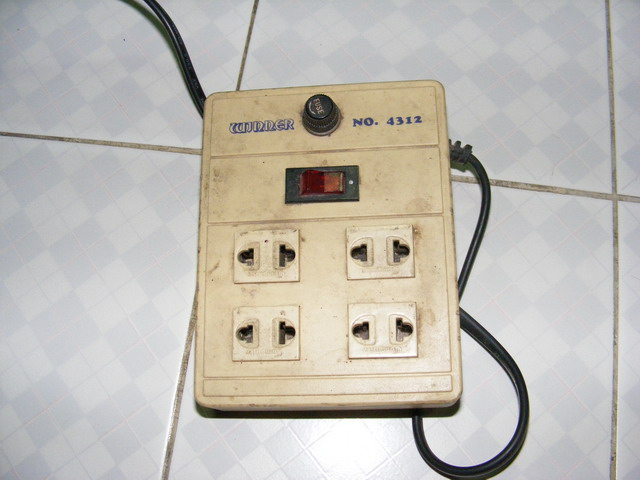Three_eye_plug: (190, 68, 472, 424)
